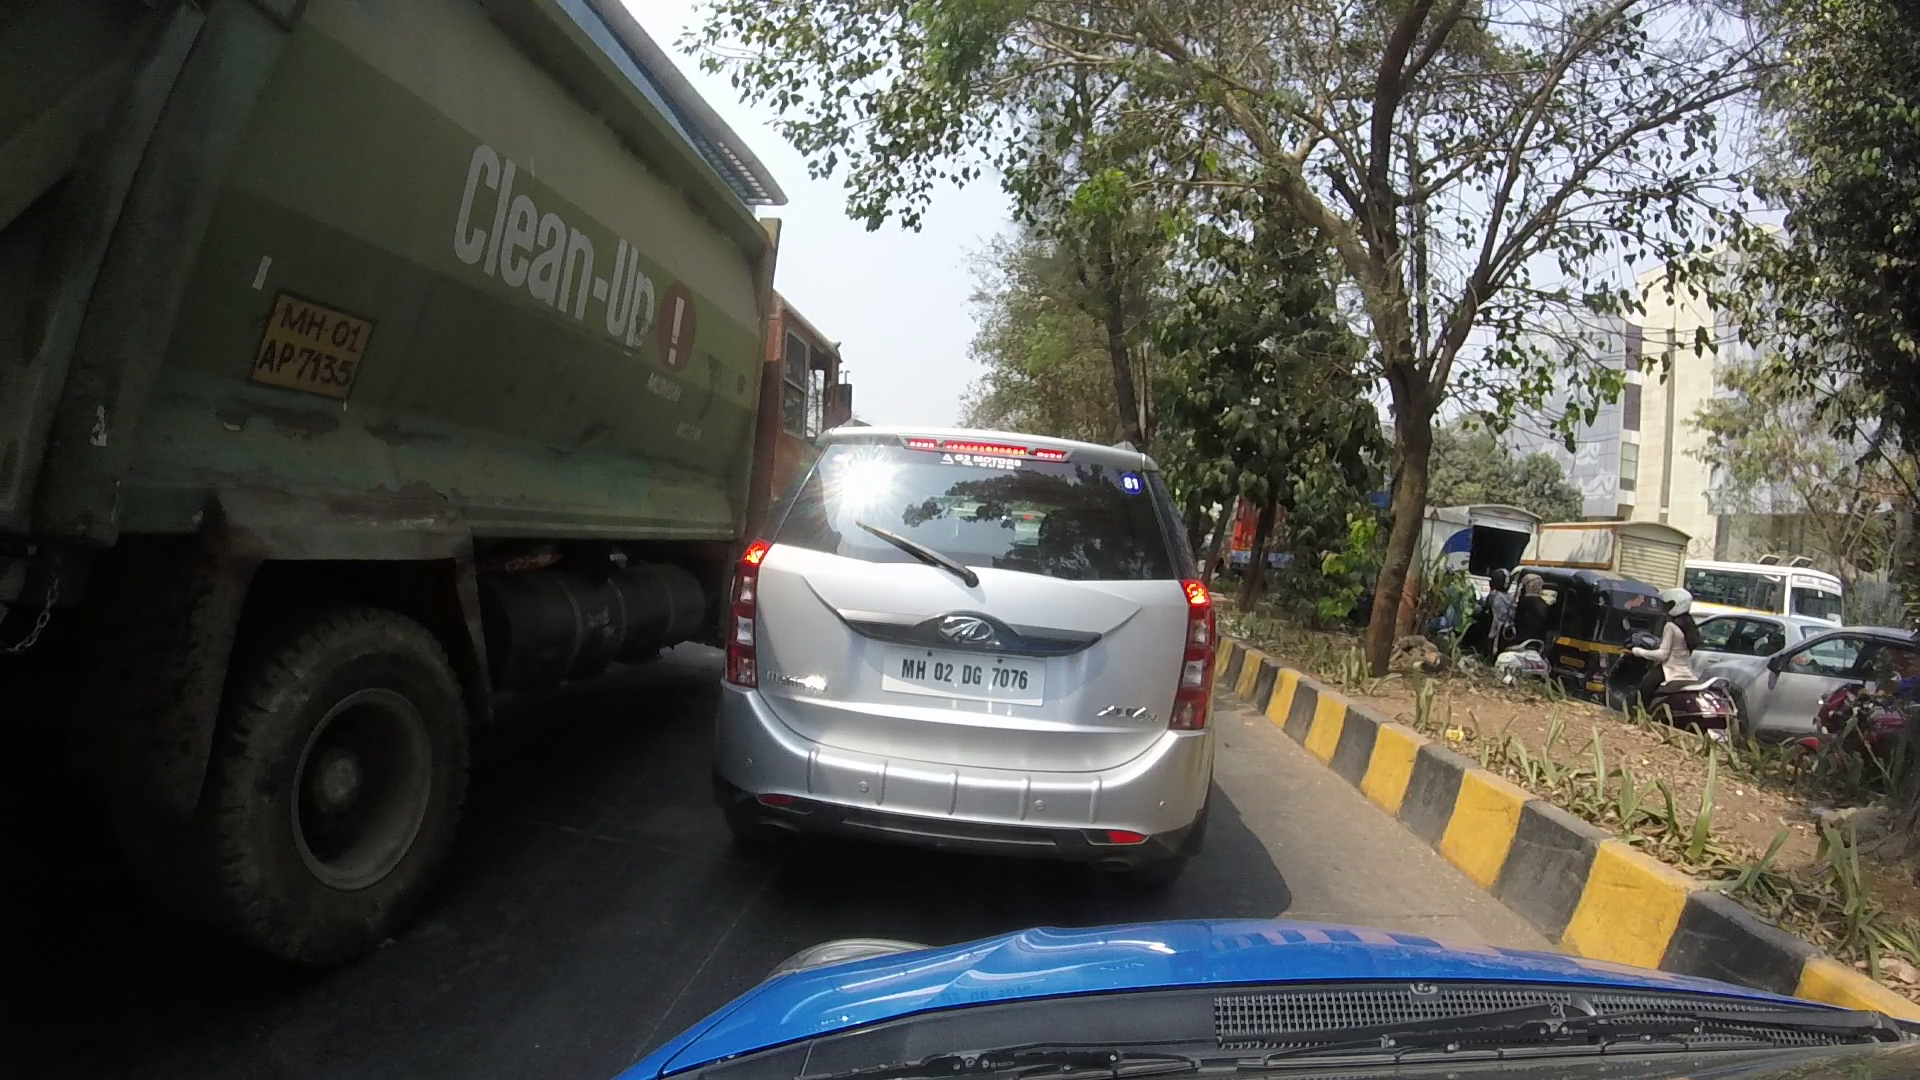bike/scooter: (1634, 611, 1741, 731)
car: (725, 422, 1232, 851)
rickshaw: (1484, 556, 1677, 692)
truck: (51, 7, 840, 898)
